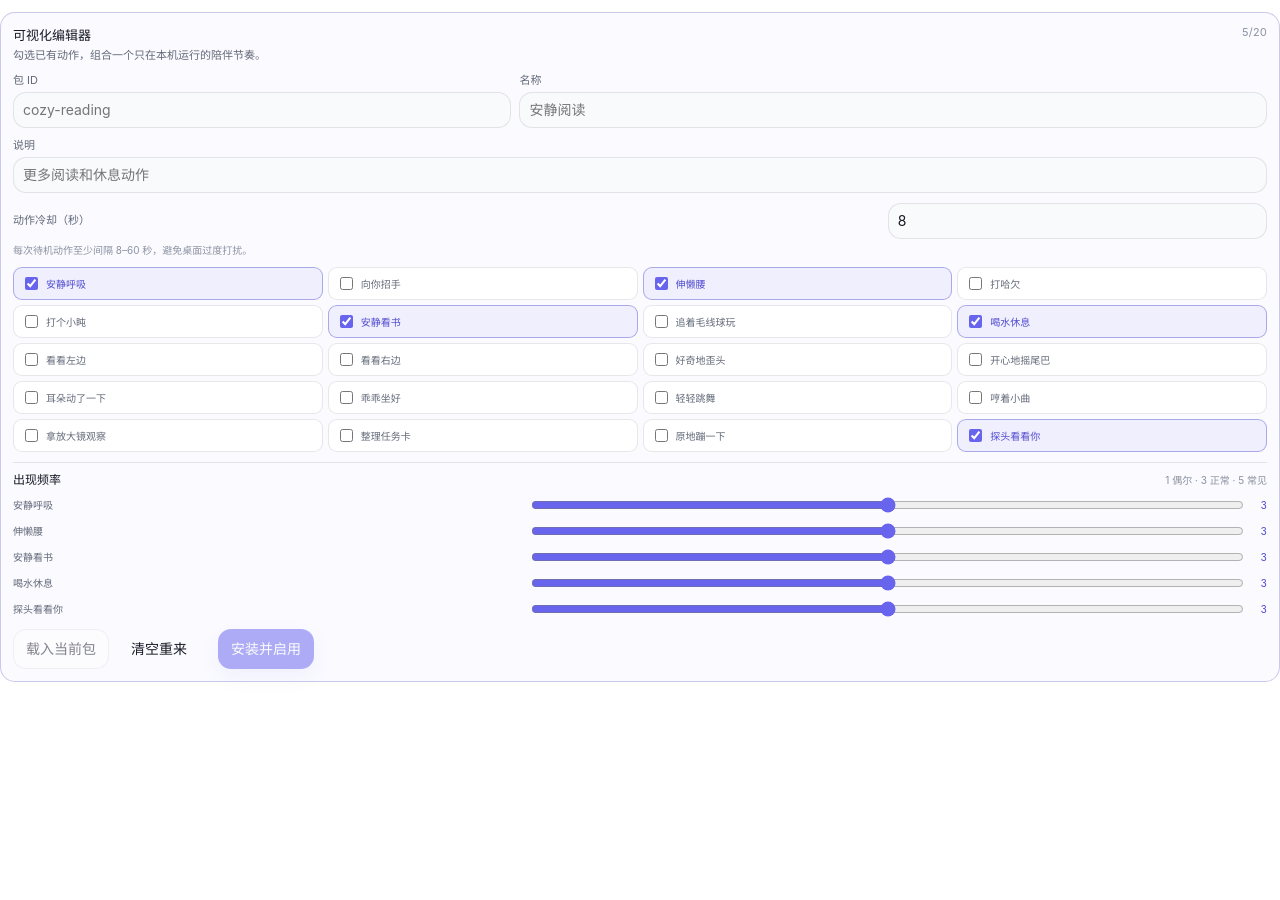
PetActionPackEditor › fails closed for an invalid pack id
This screenshot has width=1280, height=900.
Type "Bad Pack" into the field labelled "包 ID". click: point(262, 110)
box: [13,92,511,128]
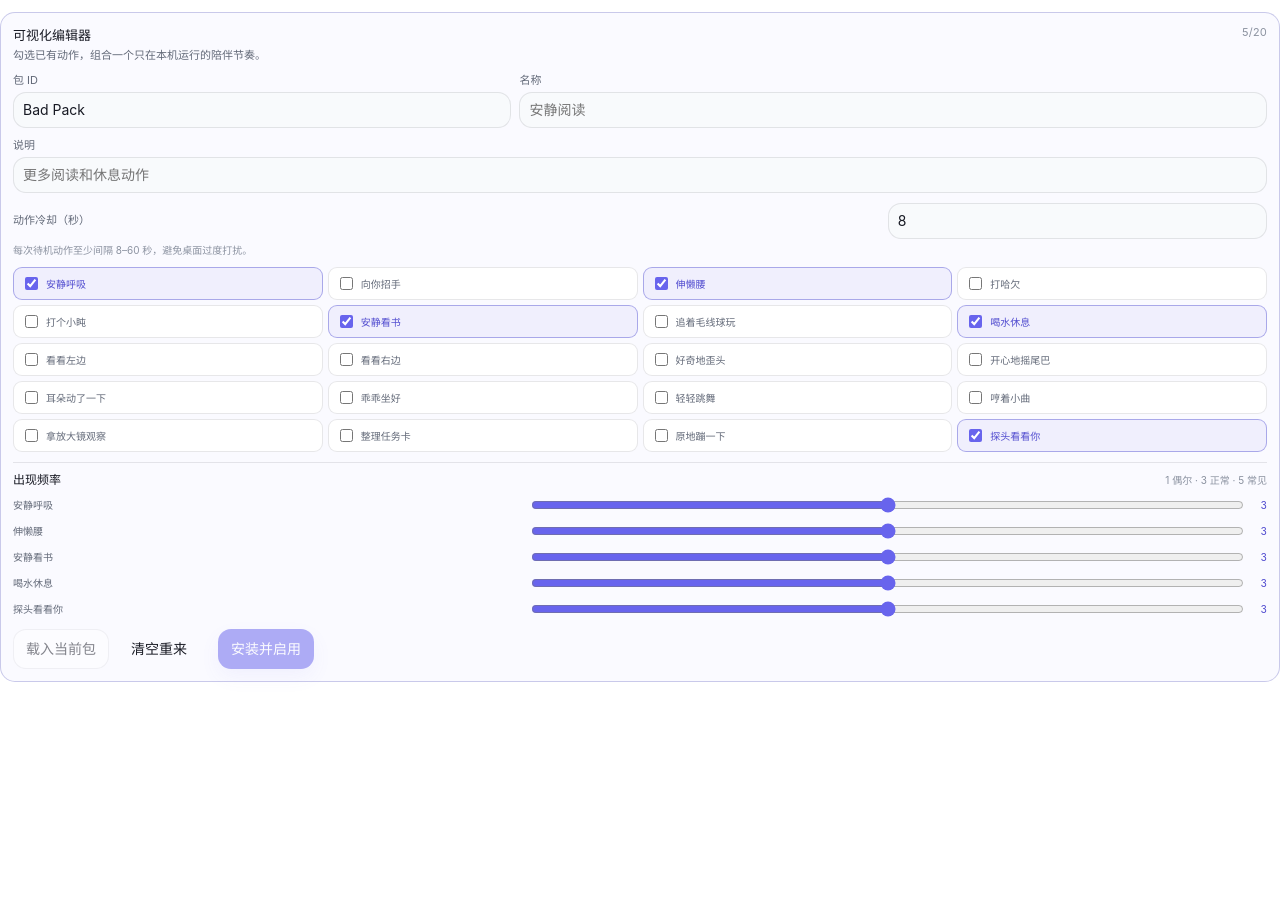
Type "错误" into the field labelled "名称". click: point(893, 110)
box: [519,92,1267,128]
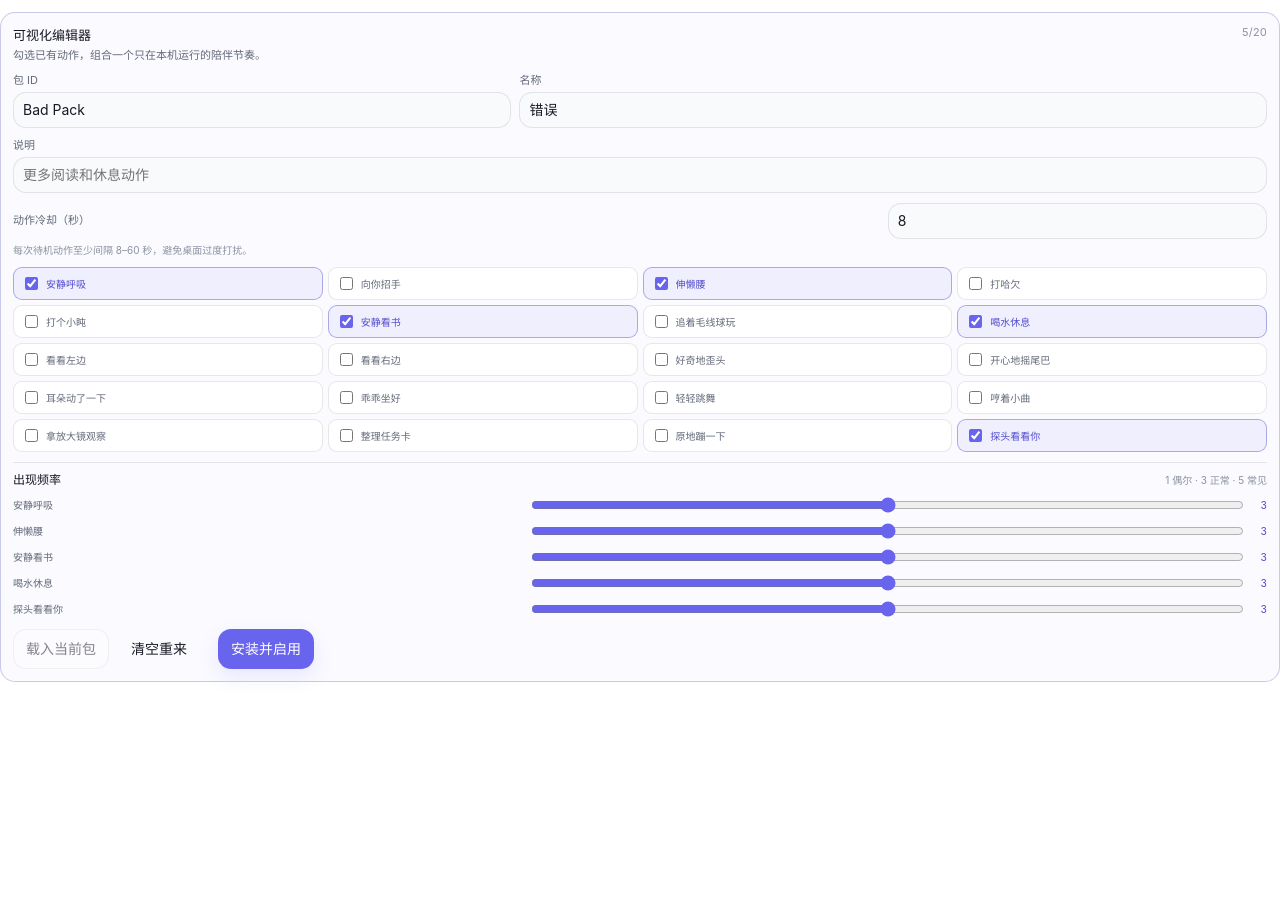
Click the button "安装并启用". click: point(266, 649)
box: [218,629,314,669]
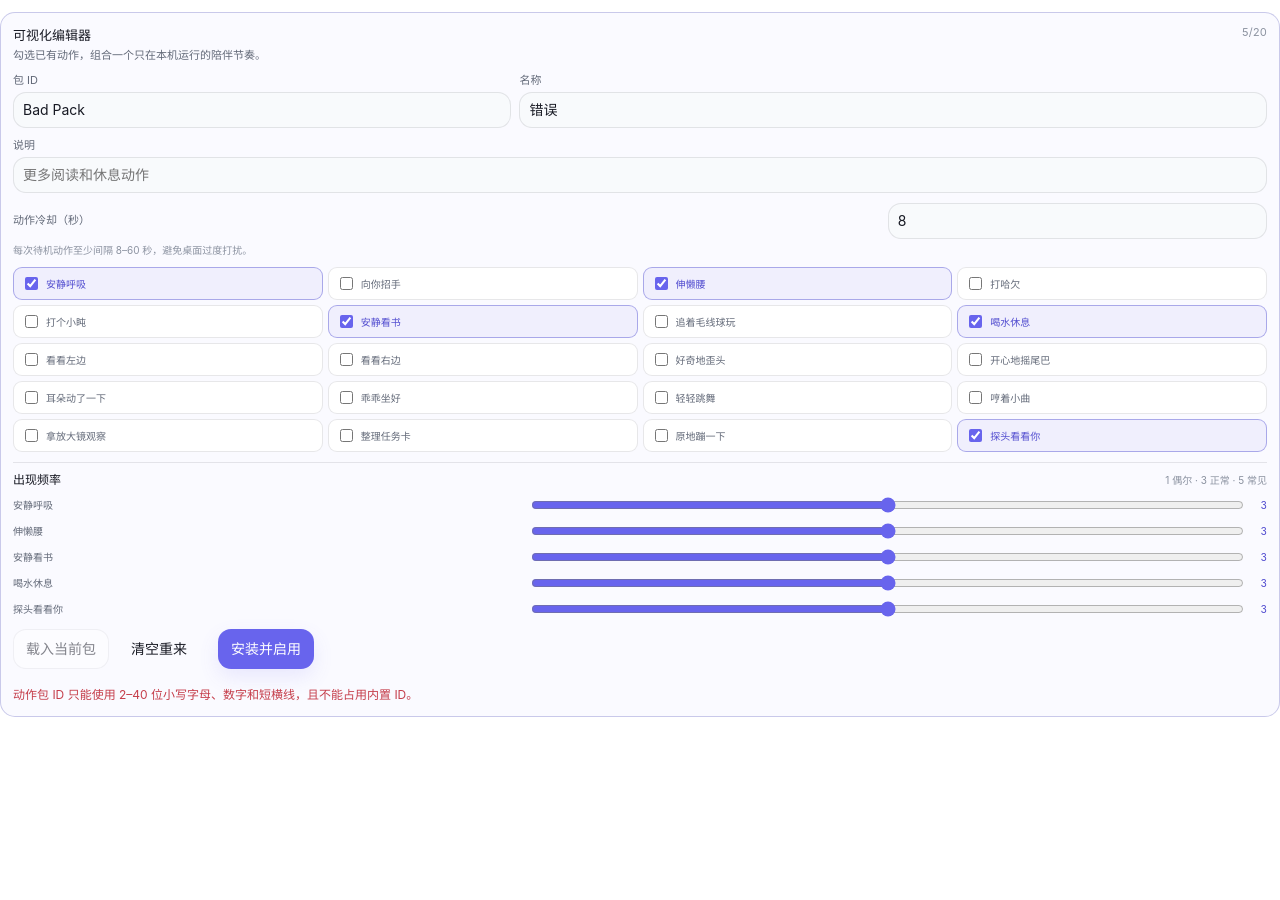
Check: the message shows "ID", box [13,687,418,702]
